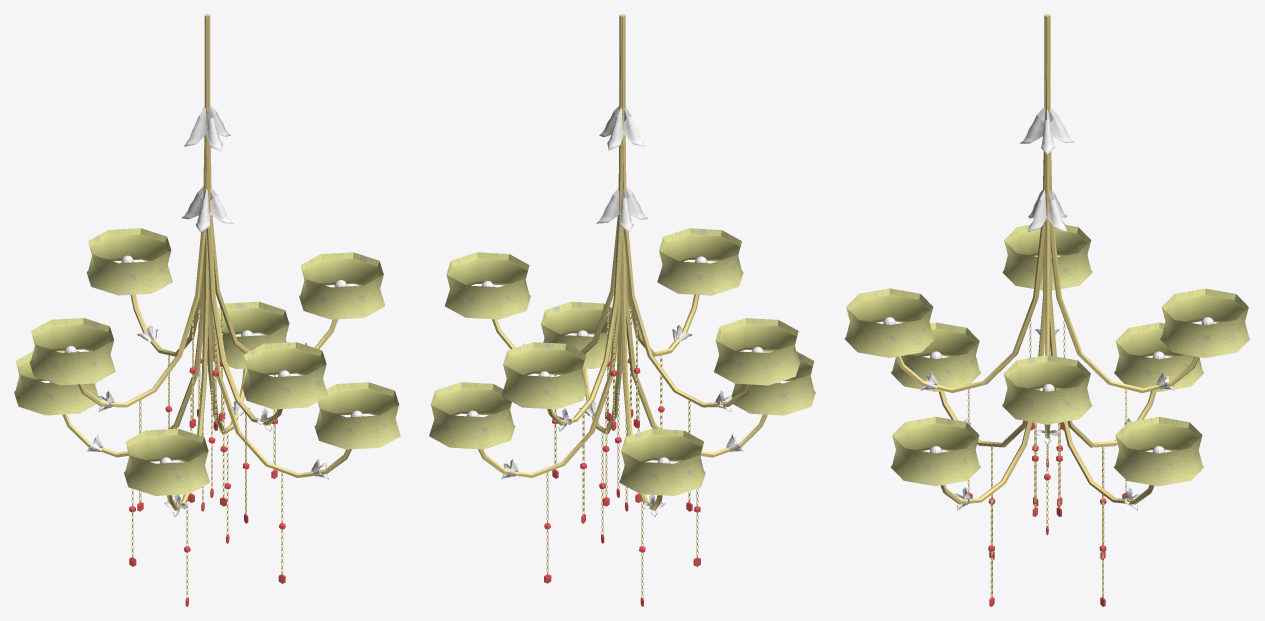
The model's file is lustre_dourado.glb.
3 renders of one model, left to right at view 1: azimuth 30°, elevation 25°; view 2: azimuth 150°, elevation 25°; view 3: azimuth 270°, elevation 25°, orthographic.
Visible parts, largest first — view 1: pCylinder11, revolvedSurface26, revolvedSurface19, revolvedSurface4, revolvedSurface17, revolvedSurface21, revolvedSurface24, revolvedSurface30, revolvedSurface28, revolvedSurface13, revolvedSurface10; view 2: pCylinder11, revolvedSurface21, revolvedSurface28, revolvedSurface4, revolvedSurface17, revolvedSurface19, revolvedSurface30, revolvedSurface24, revolvedSurface26, revolvedSurface13, revolvedSurface10; view 3: pCylinder11, revolvedSurface24, revolvedSurface17, revolvedSurface30, revolvedSurface21, revolvedSurface19, revolvedSurface4, revolvedSurface26, revolvedSurface28, revolvedSurface10, revolvedSurface13.
Part boxes in pixels (x1,y1,x2,y2): pCylinder11: [62, 14, 351, 510]; revolvedSurface26: [124, 428, 209, 495]; revolvedSurface19: [242, 342, 327, 409]; revolvedSurface4: [29, 318, 115, 385]; revolvedSurface17: [299, 252, 385, 319]; revolvedSurface21: [86, 228, 172, 295]; revolvedSurface24: [314, 382, 400, 449]; revolvedSurface30: [212, 301, 289, 368]; revolvedSurface28: [14, 350, 98, 415]; revolvedSurface13: [181, 187, 233, 232]; revolvedSurface10: [184, 106, 230, 151]; pCylinder11: [478, 14, 767, 510]; revolvedSurface21: [501, 342, 587, 409]; revolvedSurface28: [619, 428, 705, 495]; revolvedSurface4: [714, 318, 799, 385]; revolvedSurface17: [445, 252, 530, 319]; revolvedSurface19: [657, 228, 743, 295]; revolvedSurface30: [429, 382, 515, 449]; revolvedSurface24: [541, 301, 617, 368]; revolvedSurface26: [731, 350, 815, 415]; revolvedSurface13: [596, 186, 648, 231]; revolvedSurface10: [599, 106, 645, 150]; pCylinder11: [895, 14, 1199, 504]; revolvedSurface24: [890, 416, 980, 486]; revolvedSurface17: [1002, 355, 1092, 424]; revolvedSurface30: [1113, 417, 1203, 486]; revolvedSurface21: [1160, 288, 1250, 357]; revolvedSurface19: [844, 288, 934, 357]; revolvedSurface4: [1002, 225, 1092, 290]; revolvedSurface26: [891, 322, 980, 391]; revolvedSurface28: [1114, 322, 1203, 391]; revolvedSurface10: [1020, 107, 1074, 154]; revolvedSurface13: [1028, 190, 1066, 232].
Size of the model in its own units: 25.21 by 38.91 by 25.21.
Materials: 5 (4 with a texture image).
